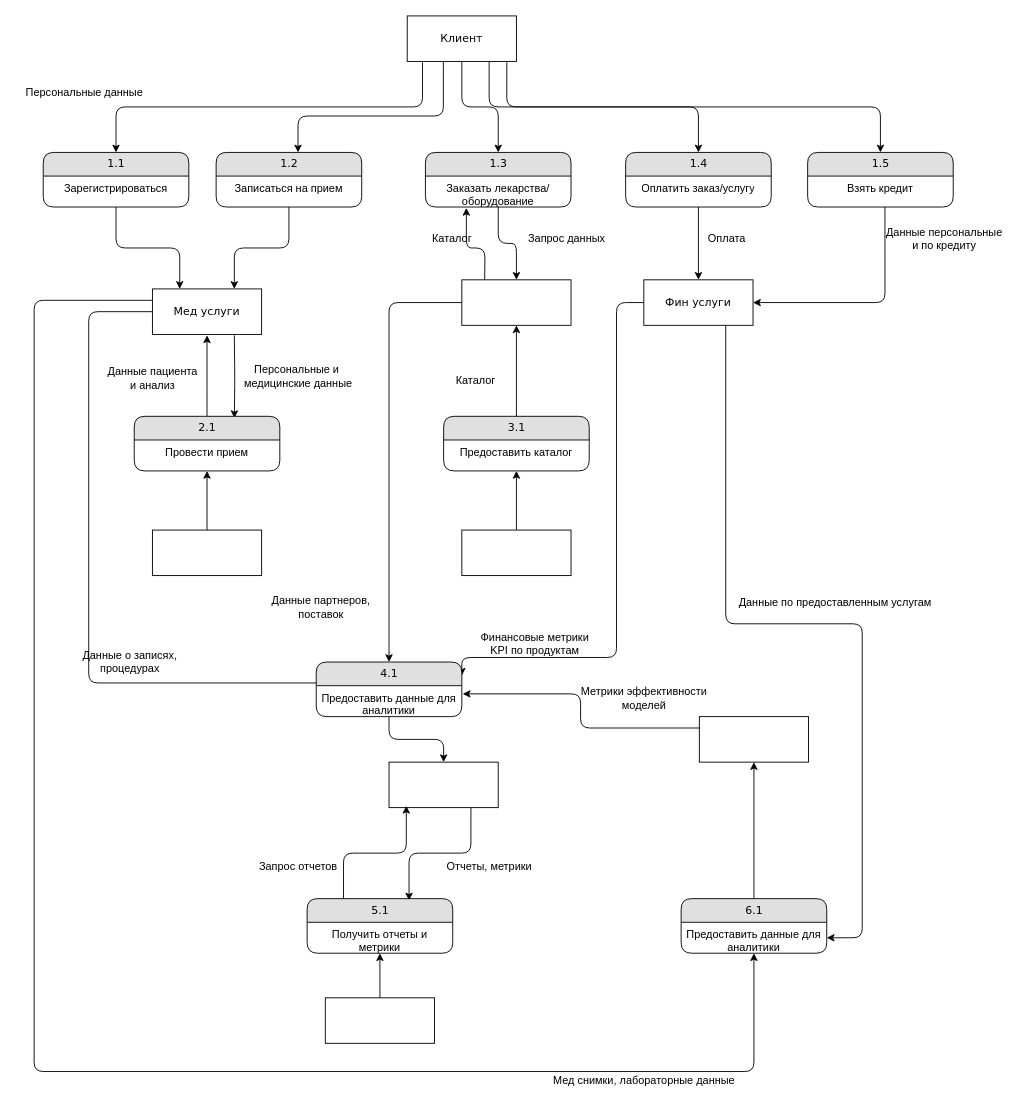
The diagram is 1027 pixels wide and 1110 high, and some of its shapes have lost their labels. Here are the shapes that lost their labels. From the top down, the centre of each, then its label:
At (516,302): "Партнерские системы".
At (207,552): "Врач".
At (516,552): "Партнер (фармацевтика/оборудование)".
At (753,739): "ИИ аналитика".
At (443,784): "Бизнес аналитика".
At (379,1020): "Головной офис".
